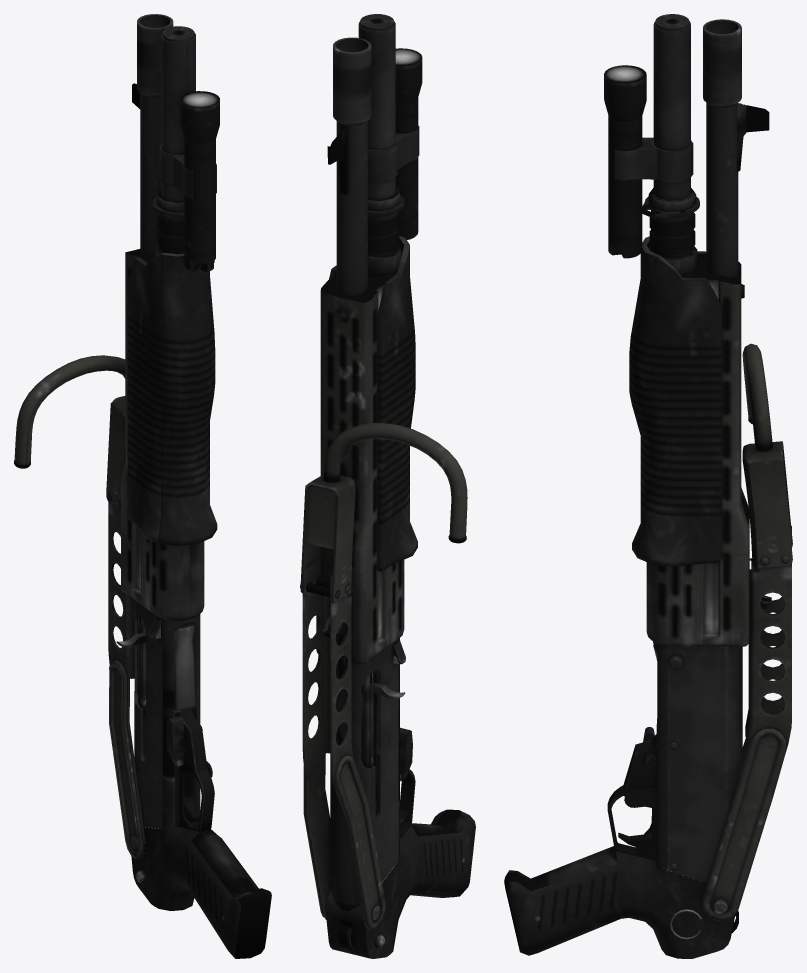
Rendered from l4d2-w-shotgun_spas.glb.
3 renders of one model, left to right at view 1: azimuth 30°, elevation 25°; view 2: azimuth 150°, elevation 25°; view 3: azimuth 270°, elevation 25°, orthographic. The views are drawn at different scales.
Bounding box in the file's own units: 5.62 × 29.88 × 8.39.
1 material, 1 textured.
